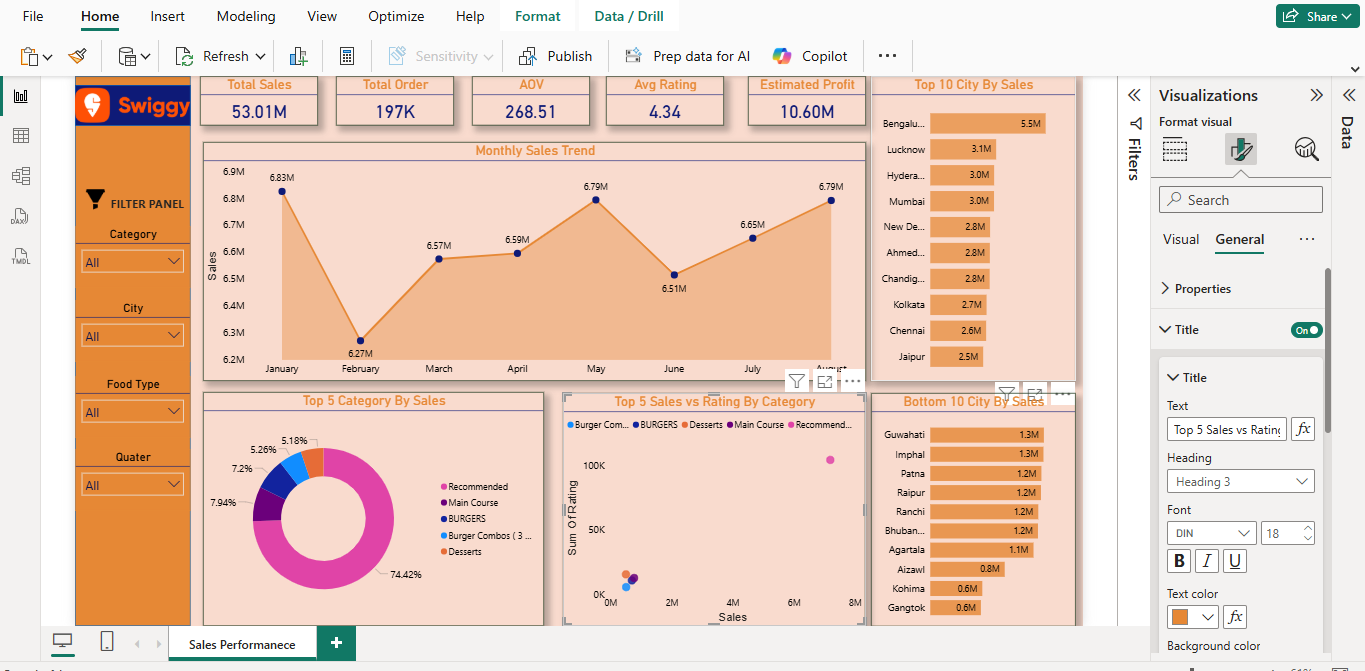

The dashboard page shown, as its layout file describes it:
{"tool":"powerbi","page":{"name":"Sales Performanece","canvas":[1650,900],"ordinal":0},"visuals":[{"type":"shape","box":[0,0,189,900],"z":0},{"type":"shape","box":[0,14.4,189,66.6],"z":1000},{"type":"image","box":[0,14.4,189,66.6],"z":2000},{"type":"card","title":"Total Sales","fields":{"Values":["Date Table.Total Sales"]},"box":[205.2,0,192.6,81],"z":3000},{"type":"card","title":"Total Order","fields":{"Values":["Date Table.Total Orders"]},"box":[426.6,0,192.6,81],"z":4000},{"type":"card","title":"AOV","fields":{"Values":["Date Table.AOV"]},"box":[649.8,0,192.6,81],"z":5000},{"type":"card","title":"Avg Rating","fields":{"Values":["Date Table.Avg Rating"]},"box":[869.4,0,192.6,81],"z":6000},{"type":"card","title":"Estimated Profit","fields":{"Values":["Date Table.Estimated Profit"]},"box":[1101.6,0,192.6,81],"z":7000},{"type":"lineChart","title":"Monthly Sales Trend","fields":{"Y":["Sum(Swiggy Data.Price (INR))"],"Category":["Swiggy Data.Order Date.Variation.Date Hierarchy.Month"]},"box":[208.8,108,1085.4,390.6],"z":8000},{"type":"clusteredBarChart","title":"Top 10 City By Sales","fields":{"Category":["Swiggy Data.City"],"Y":["Sum(Swiggy Data.Price (INR))"]},"box":[1303.2,0,334.8,498.6],"z":9000},{"type":"donutChart","title":"Top 5 Category By Sales","fields":{"Category":["Swiggy Data.Category"],"Y":["Sum(Swiggy Data.Price (INR))"]},"box":[208.8,516.6,558,383.4],"z":10000},{"type":"scatterChart","title":"Top 5 Sales vs Rating By Category","fields":{"Series":["Swiggy Data.Category"],"Y":["Sum(Swiggy Data.Rating)"],"X":["Sum(Swiggy Data.Price (INR))"]},"box":[799.2,518.4,495,381.6],"z":11000},{"type":"clusteredBarChart","title":"Bottom 10 City By Sales","fields":{"Category":["Swiggy Data.City"],"Y":["Sum(Swiggy Data.Price (INR))"]},"box":[1303.2,518.4,334.8,381.6],"z":12000},{"type":"slicer","title":"Category","fields":{"Values":["Swiggy Data.Category"]},"box":[0,245.3,189,100.8],"z":13000},{"type":"slicer","title":"City","fields":{"Values":["Swiggy Data.City"]},"box":[0,365.9,189,100.8],"z":14000},{"type":"slicer","title":"Food Type","fields":{"Values":["Swiggy Data.Food type"]},"box":[0,490.1,189,100.8],"z":15000},{"type":"slicer","title":"Quater","fields":{"Values":["Swiggy Data.Quarter"]},"box":[0,610.7,189,100.8],"z":16000},{"type":"image","box":[0,181.8,66.6,39.6],"z":17000},{"type":"textbox","box":[46.8,190.8,142.2,54],"z":18000}]}

Visuals, with their boxes on the page's 1650x900 design canvas (x1, y1, x2, y2). These are canvas units, not pixel positions in the 1365x671 screenshot, which may show the page scaled, cropped or inside an application window:
shape: Rect(0, 0, 189, 900)
shape: Rect(0, 14, 189, 81)
image: Rect(0, 14, 189, 81)
"Total Sales" card: Rect(205, 0, 398, 81)
"Total Order" card: Rect(427, 0, 619, 81)
"AOV" card: Rect(650, 0, 842, 81)
"Avg Rating" card: Rect(869, 0, 1062, 81)
"Estimated Profit" card: Rect(1102, 0, 1294, 81)
"Monthly Sales Trend" lineChart: Rect(209, 108, 1294, 499)
"Top 10 City By Sales" clusteredBarChart: Rect(1303, 0, 1638, 499)
"Top 5 Category By Sales" donutChart: Rect(209, 517, 767, 900)
"Top 5 Sales vs Rating By Category" scatterChart: Rect(799, 518, 1294, 900)
"Bottom 10 City By Sales" clusteredBarChart: Rect(1303, 518, 1638, 900)
"Category" slicer: Rect(0, 245, 189, 346)
"City" slicer: Rect(0, 366, 189, 467)
"Food Type" slicer: Rect(0, 490, 189, 591)
"Quater" slicer: Rect(0, 611, 189, 712)
image: Rect(0, 182, 67, 221)
textbox: Rect(47, 191, 189, 245)
